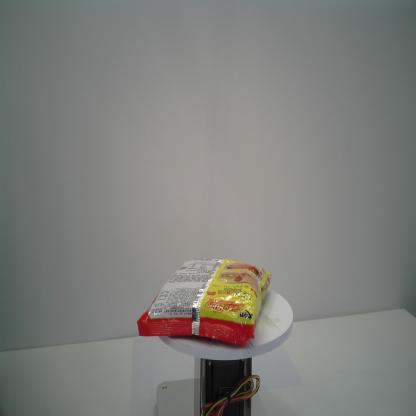Instant Noodles: (137, 257, 272, 348)
